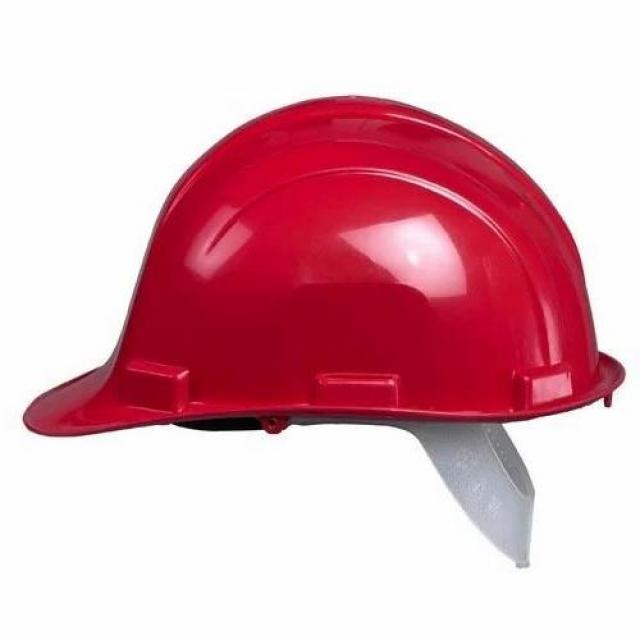Safety-Helmet: (22, 92, 630, 448)
